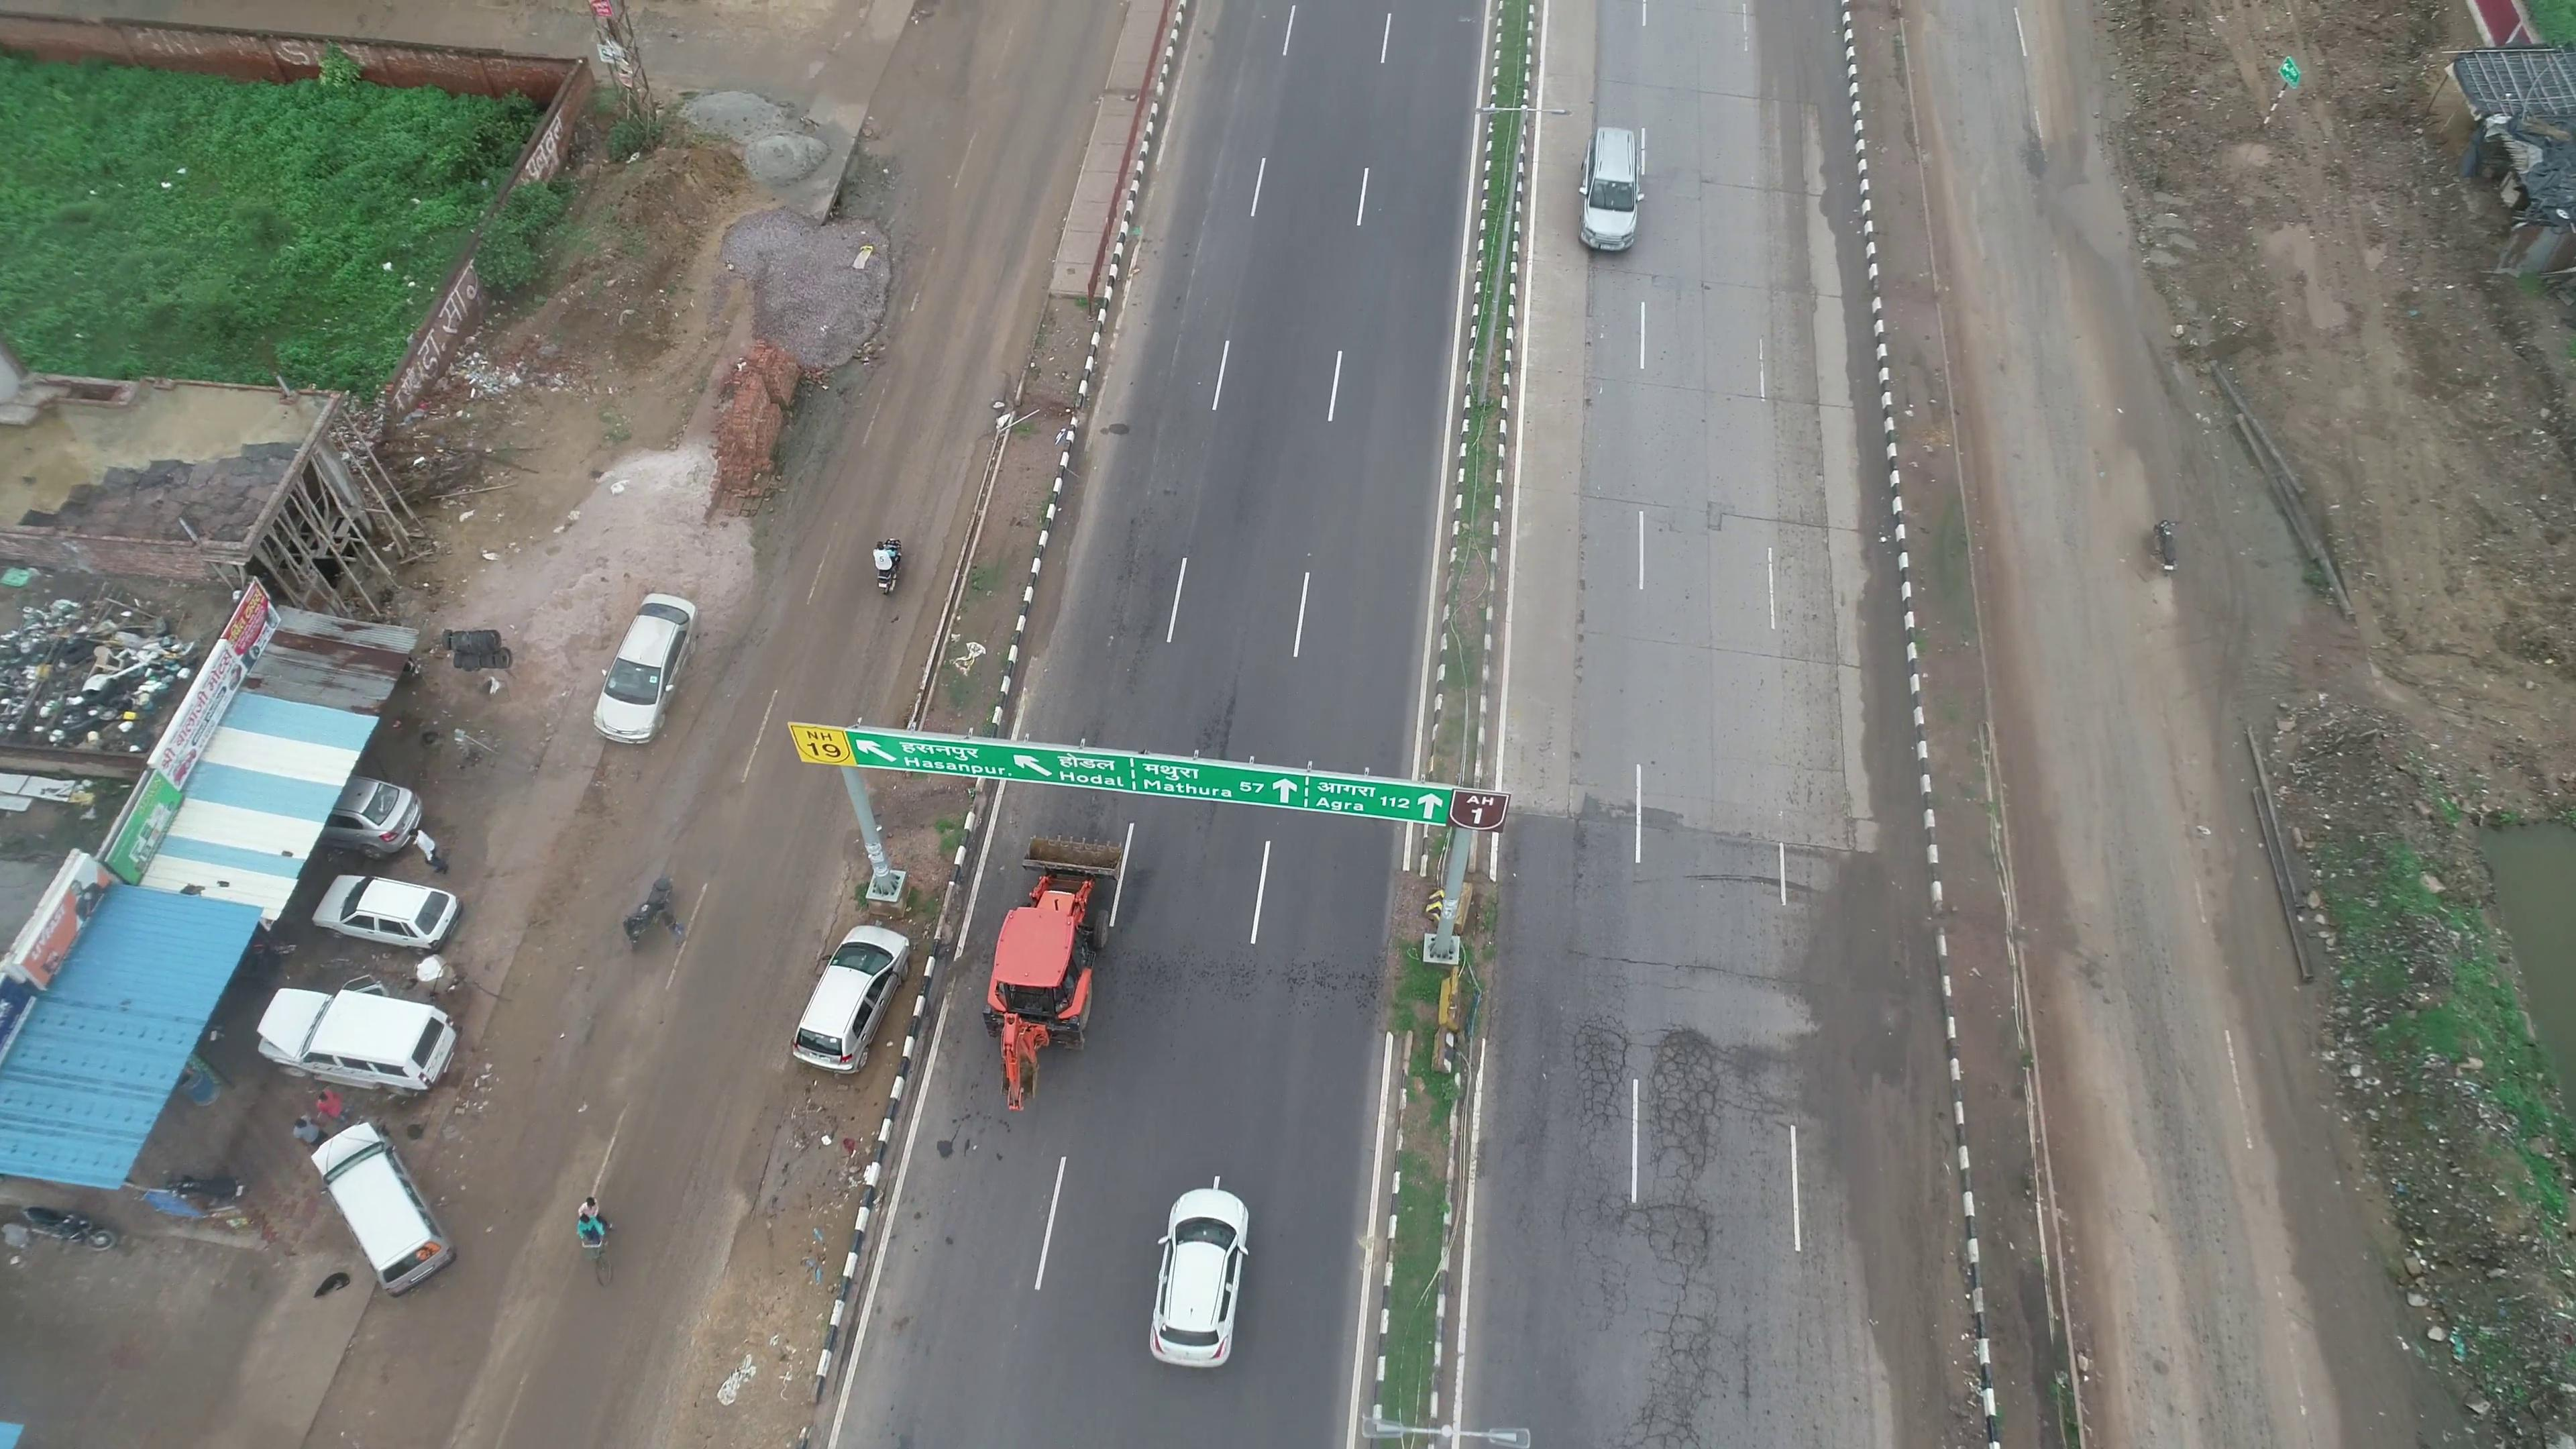Alligator_cracks: (1562, 1003, 1785, 1449)
Ravelling: (1125, 939, 1371, 1014)
